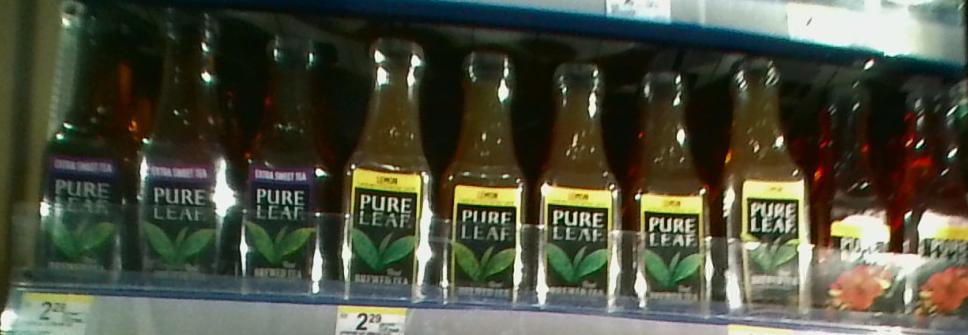bottle: (133, 8, 235, 293), (38, 11, 132, 292), (342, 36, 438, 305), (527, 57, 626, 313), (246, 21, 334, 302), (717, 59, 812, 315), (811, 78, 904, 317), (446, 43, 529, 310), (636, 67, 717, 317)
